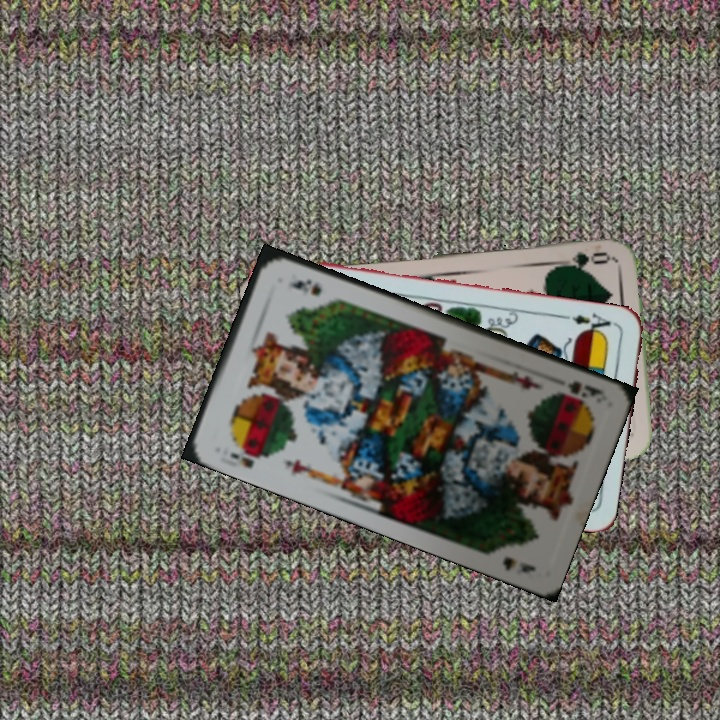EA: (560, 309, 613, 338)
GO: (553, 248, 612, 272)
SK: (553, 376, 608, 405), (226, 440, 271, 471)
